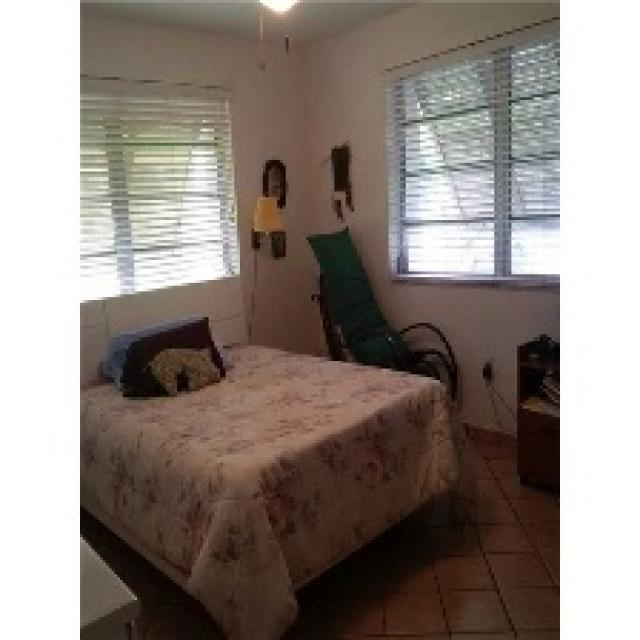Bed: (77, 306, 472, 637)
